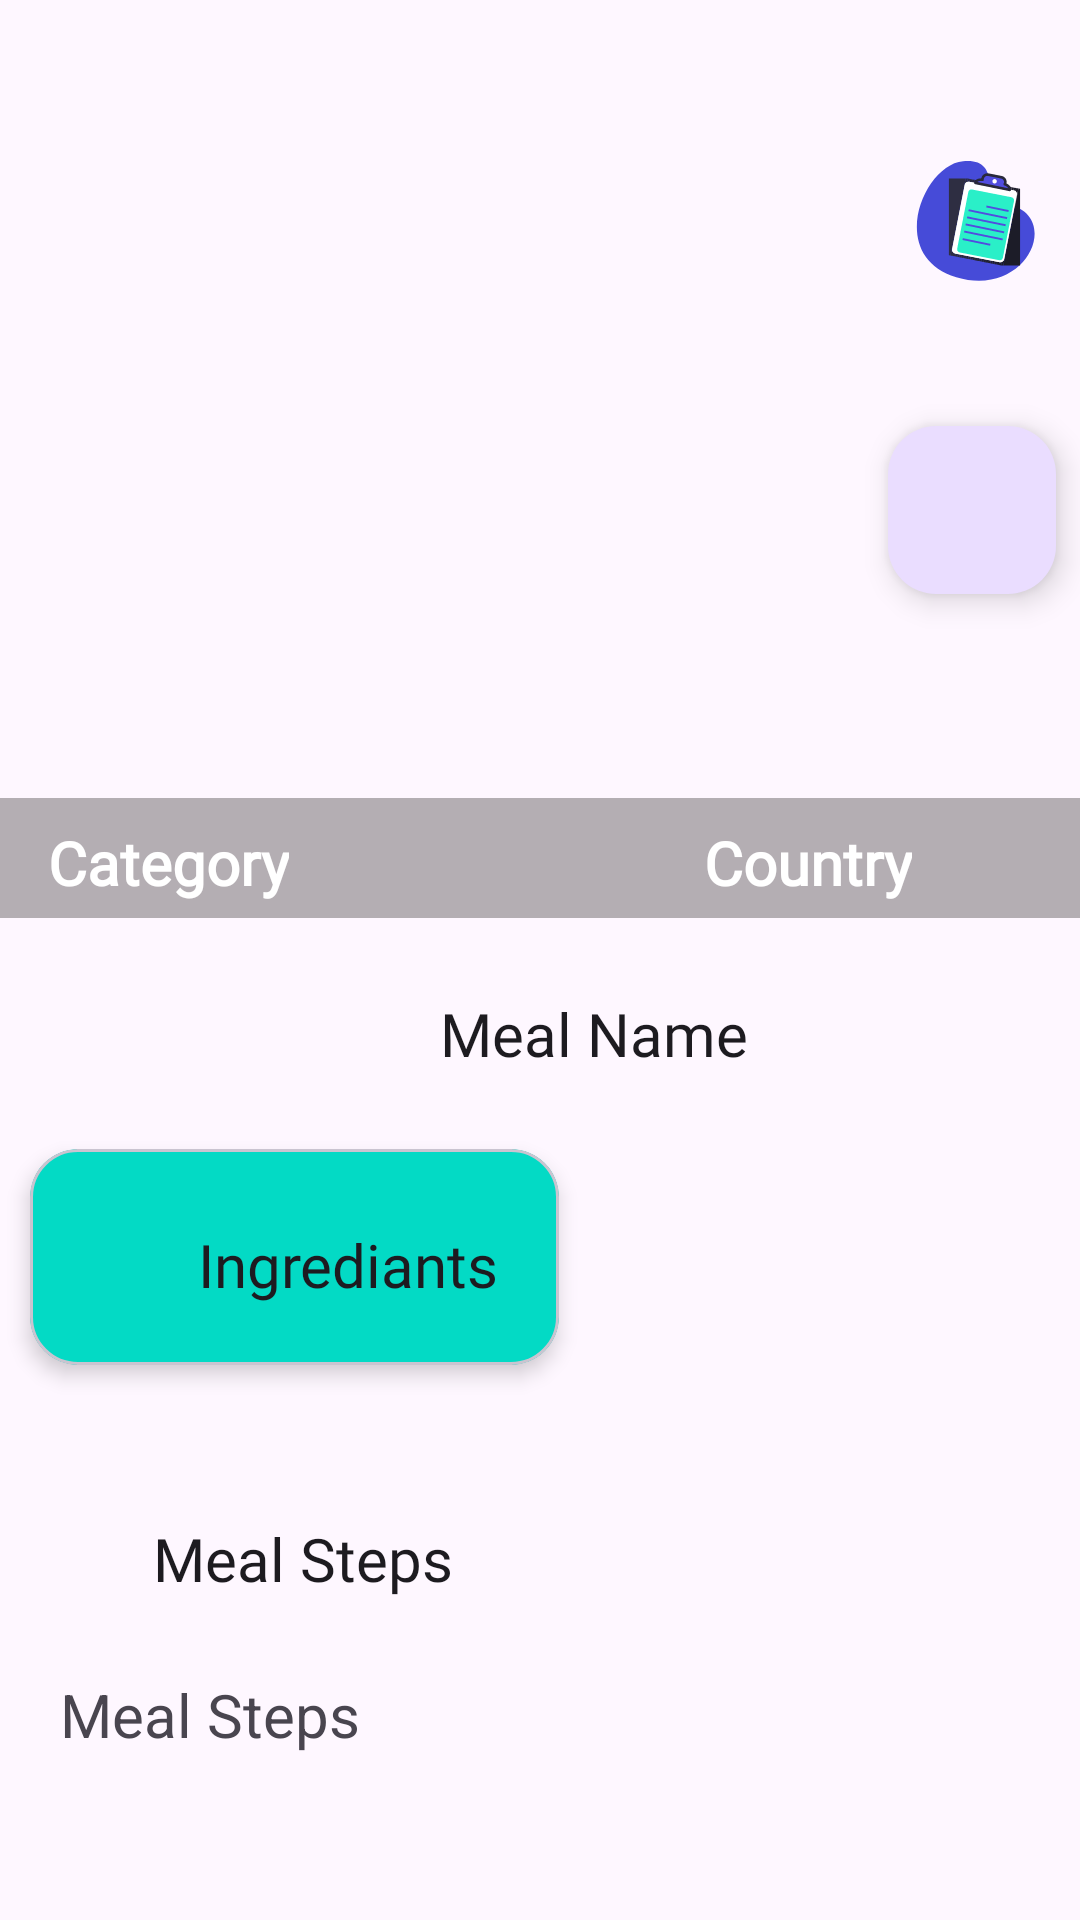

Icon click points for this 1080*1920 phone screenshot, format (x,y):
planicon: (975,221)
